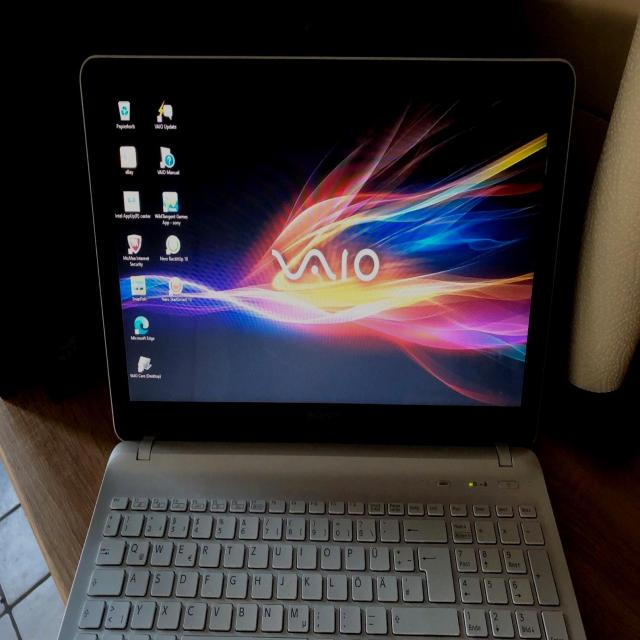0: (330, 515, 351, 539)
1: (119, 510, 142, 534)
2: (142, 510, 165, 535)
3: (165, 511, 188, 535)
4: (189, 512, 211, 537)
5: (212, 512, 234, 537)
6: (236, 512, 257, 537)
7: (260, 513, 281, 537)
8: (283, 514, 304, 538)
9: (307, 515, 327, 539)
a: (123, 566, 147, 594)
accent: (377, 516, 398, 540)
ae: (375, 572, 397, 600)
b: (232, 599, 256, 630)
c: (180, 598, 205, 628)
caret: (102, 510, 119, 533)
comma: (311, 601, 333, 631)
d: (173, 567, 197, 595)
del: (401, 515, 444, 540)
e: (172, 538, 195, 565)
enter: (415, 543, 454, 601)
f: (199, 568, 221, 596)
g: (224, 569, 246, 597)
h: (249, 570, 270, 597)
hash: (400, 573, 422, 600)
i: (294, 542, 315, 567)
j: (274, 570, 296, 597)
k: (299, 570, 321, 598)
keyboard: (70, 469, 571, 640)
l: (325, 571, 346, 599)
less: (102, 597, 128, 627)
m: (285, 601, 308, 631)
minus: (363, 603, 386, 632)
n: (259, 601, 282, 630)
o: (319, 542, 340, 568)
oe: (350, 572, 371, 599)
p: (343, 542, 364, 569)
plus: (391, 543, 412, 569)
point: (337, 602, 359, 632)
q: (123, 536, 147, 563)
r: (197, 539, 219, 565)
s: (148, 567, 172, 595)
shift-left: (77, 597, 103, 627)
shift-lock: (86, 566, 122, 594)
shift-right: (389, 604, 458, 633)
ss: (354, 515, 374, 539)
t: (221, 539, 242, 565)
tab: (94, 535, 124, 563)
u: (270, 541, 291, 567)
ue: (367, 543, 388, 569)
v: (206, 599, 231, 629)
w: (148, 537, 171, 564)
x: (155, 597, 179, 628)
y: (128, 598, 154, 627)
z: (245, 540, 267, 567)
